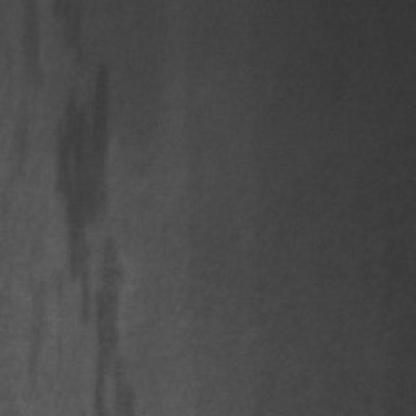inclusion: (48, 4, 141, 408)
